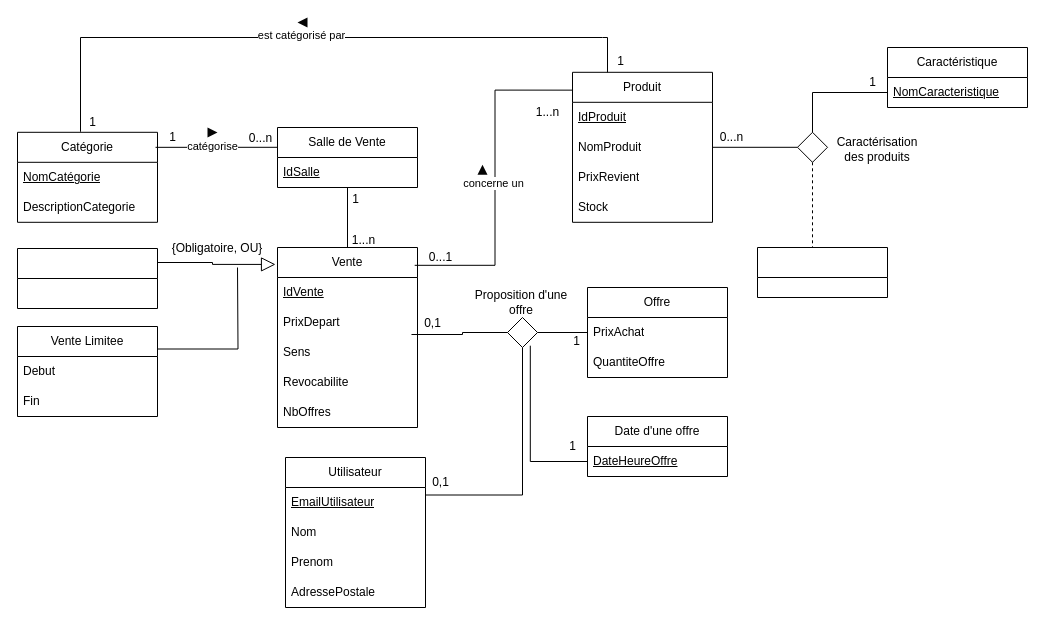
This 1045x625 diagram has some shape labels left out. Here are the shapes that lost their labels. From the top down, the centre of each, then its label:
At [87,278]: "Vente Libre".
At [822,272]: "ValeurCaracteristique".
